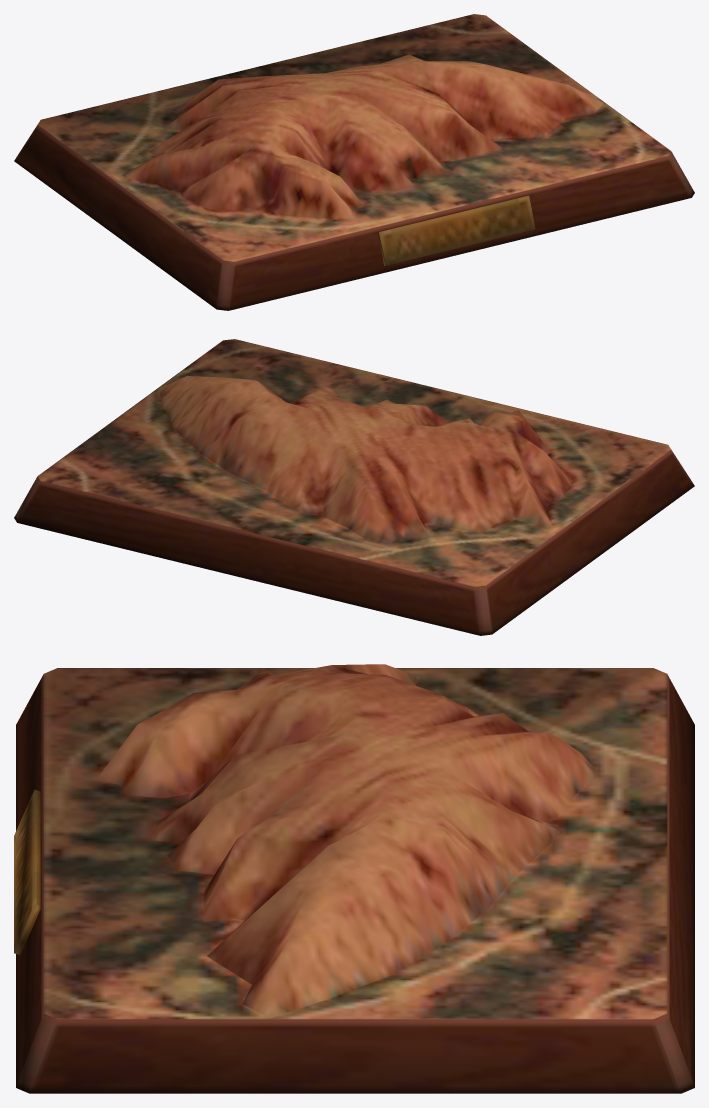
Rendered from int_jhn_ayersrock.dae.
The picture shows the model from 3 angles, top to bottom: view 1: azimuth 30°, elevation 25°; view 2: azimuth 150°, elevation 25°; view 3: azimuth 270°, elevation 25°; orthographic projection. The views are drawn at different scales.
Parts seen in each view (by area): view 1: int_jhn_ayersrock; view 2: int_jhn_ayersrock; view 3: int_jhn_ayersrock.
Boxes of the visible parts, x1,y1,x2,y2 form: int_jhn_ayersrock: (14, 14, 694, 310); int_jhn_ayersrock: (14, 339, 694, 635); int_jhn_ayersrock: (14, 664, 694, 1093).
Bounding box in the file's own units: 61.44 × 11.33 × 47.18.
Materials: 1 (1 with a texture image).
